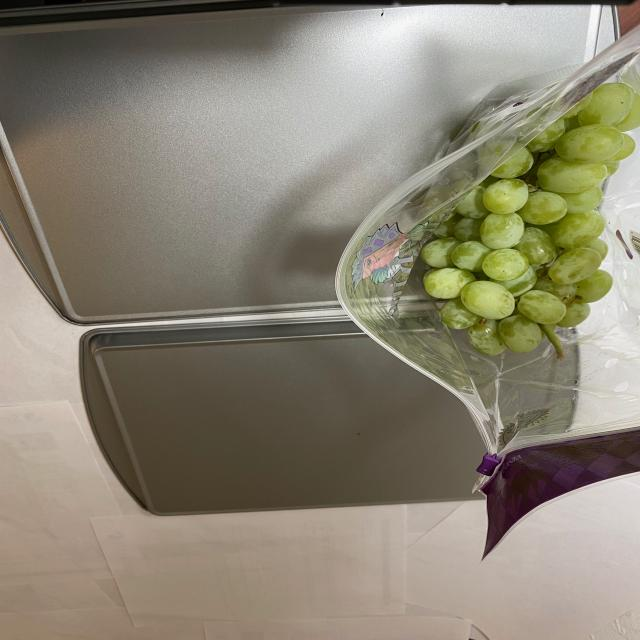grapes: (416, 75, 636, 370)
